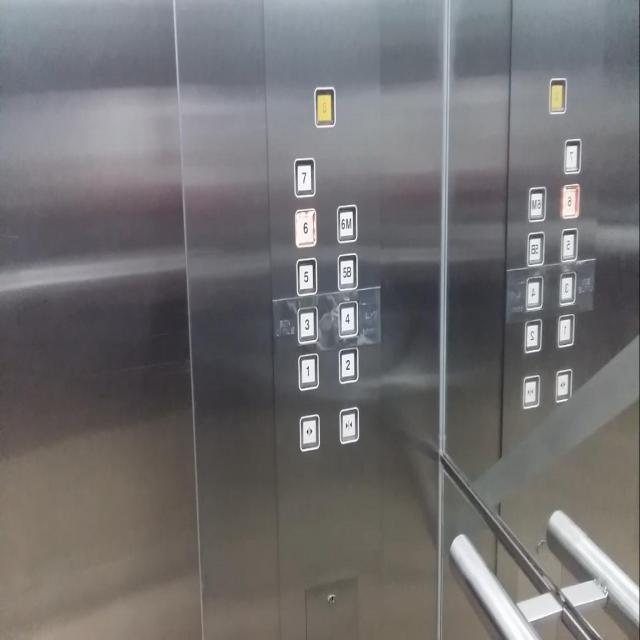1: (298, 352, 320, 391)
2: (338, 346, 360, 384)
3: (296, 304, 318, 344)
4: (336, 298, 358, 339)
5: (296, 255, 318, 296)
5B: (337, 252, 359, 292)
6: (294, 206, 317, 249)
6M: (335, 202, 358, 246)
7: (293, 156, 316, 199)
alarm: (312, 85, 336, 127)
close: (338, 405, 360, 443)
open: (298, 412, 320, 451)
